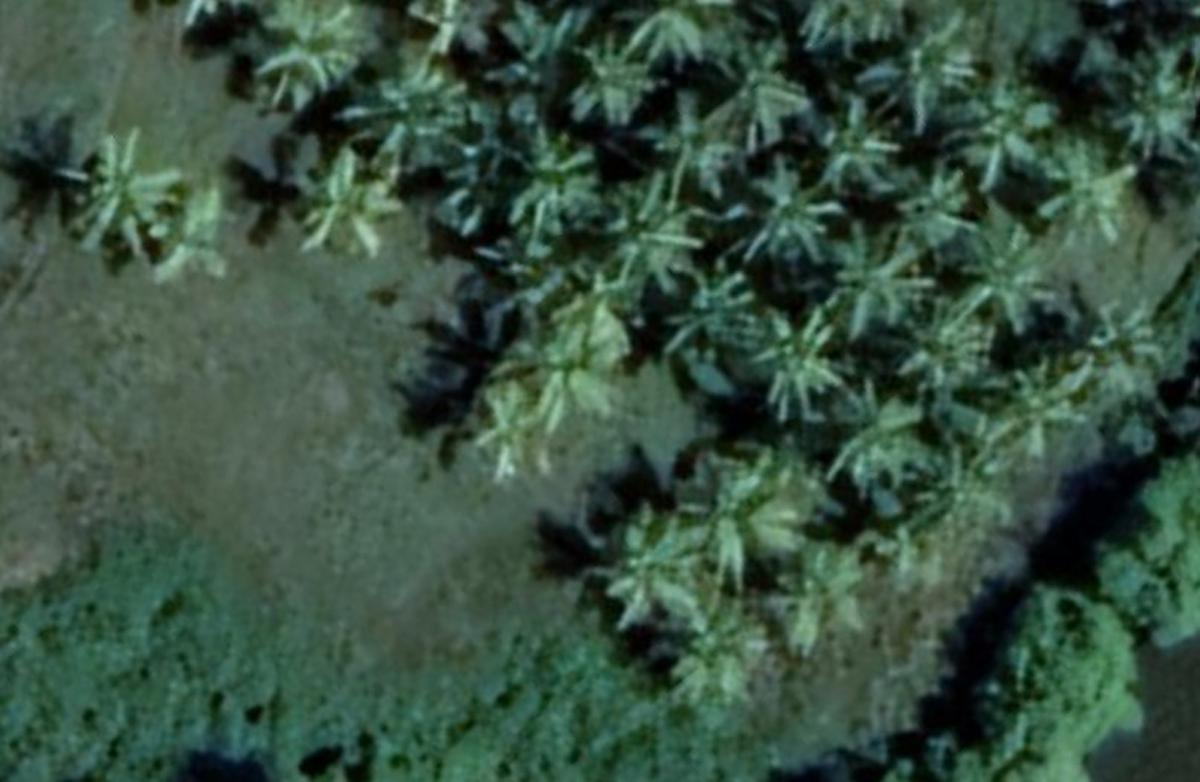coconut: (52, 117, 173, 258), (585, 501, 710, 634), (581, 169, 709, 286), (342, 62, 472, 173), (721, 151, 840, 269), (866, 28, 993, 129), (814, 225, 936, 328), (249, 1, 367, 107), (743, 300, 847, 420), (823, 376, 935, 486), (1034, 145, 1144, 257), (453, 377, 571, 480), (895, 292, 1002, 405), (939, 81, 1051, 188), (684, 462, 801, 563), (524, 303, 633, 411), (762, 547, 875, 649), (285, 147, 385, 260), (704, 49, 814, 151), (1098, 52, 1200, 157), (802, 102, 911, 200), (504, 129, 597, 243), (150, 176, 242, 289), (597, 2, 733, 78), (1061, 300, 1159, 405), (670, 255, 764, 362), (572, 34, 672, 130), (985, 365, 1081, 463), (410, 1, 498, 63)
